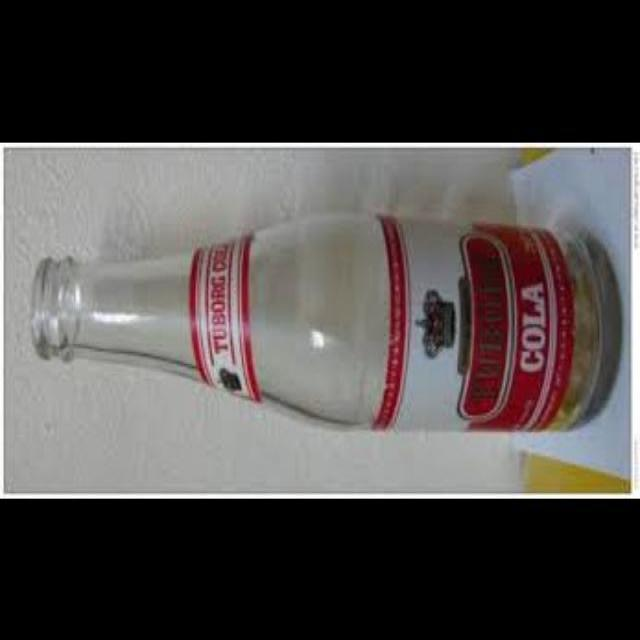Glass: (27, 206, 626, 436)
